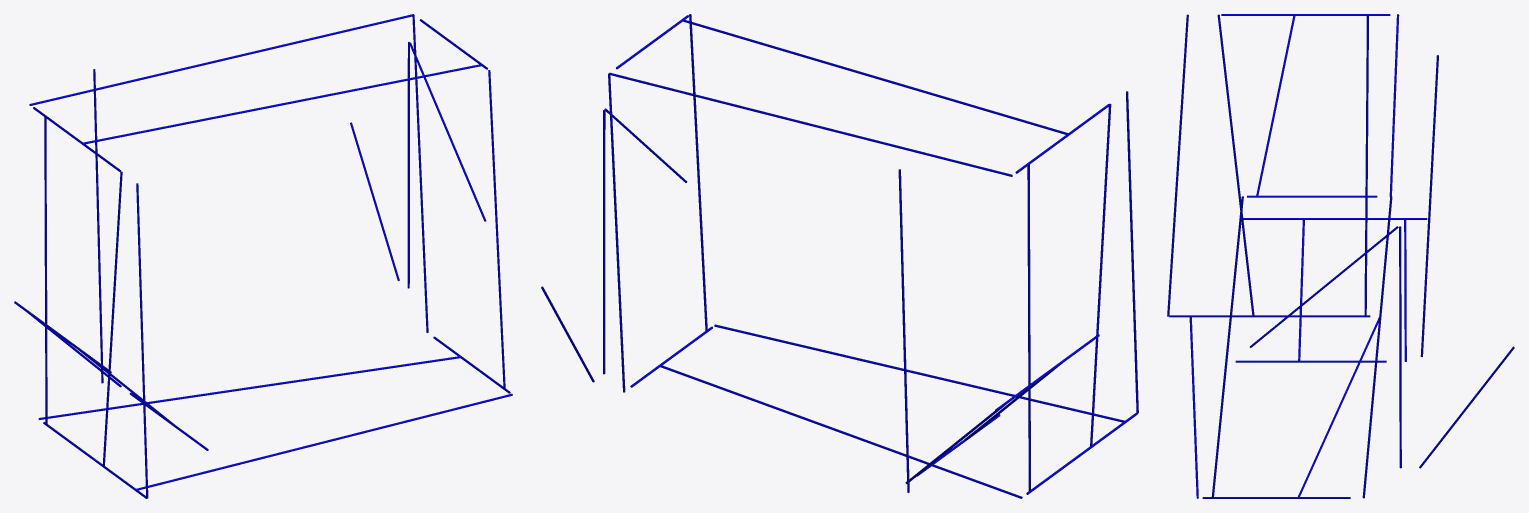
File: corrected_3d_strokes.glb
3 views of the same model, side by side, from view 1: azimuth 30°, elevation 25°; view 2: azimuth 150°, elevation 25°; view 3: azimuth 270°, elevation 25° (orthographic). The views are drawn at different scales.
Visible parts, largest first — view 1: world; view 2: world; view 3: world.
Boxes of the visible parts, bbox=[...] form: world: bbox=[14, 14, 512, 498]; world: bbox=[541, 14, 1138, 498]; world: bbox=[1167, 14, 1514, 498].
Size of the model in its own units: 7.6 by 5.89 by 6.12.
